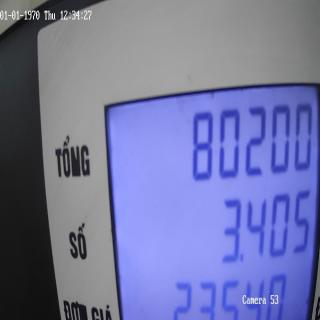screen: (99, 76, 318, 320)
